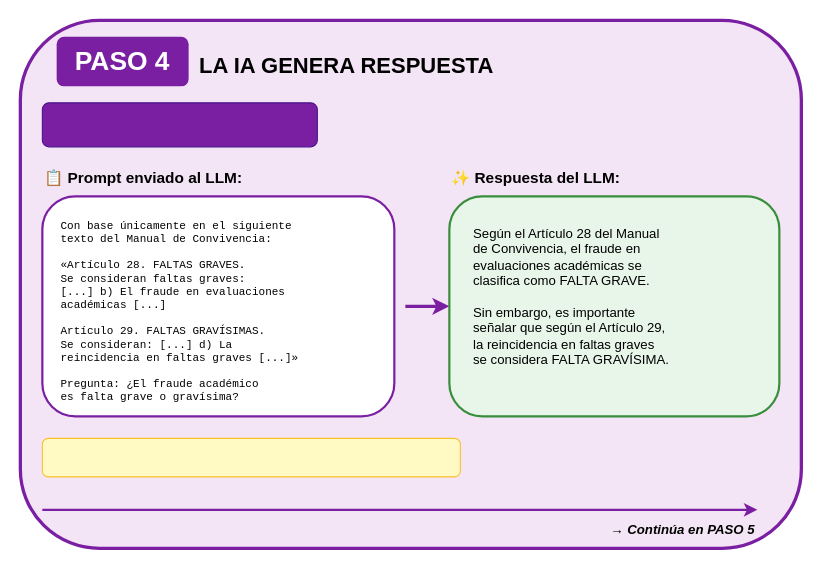
The diagram is 822 pixels wide and 569 high, and some of its shapes have lost their labels. Here are the shapes that lost their labels. From the top down, the box of each, then its label:
(41, 102, 317, 147): 🤖 GROQ API (Llama 3.1 8B)
(41, 437, 460, 477): 💡 El LLM responde SOLO con base en el contexto proporcionado
